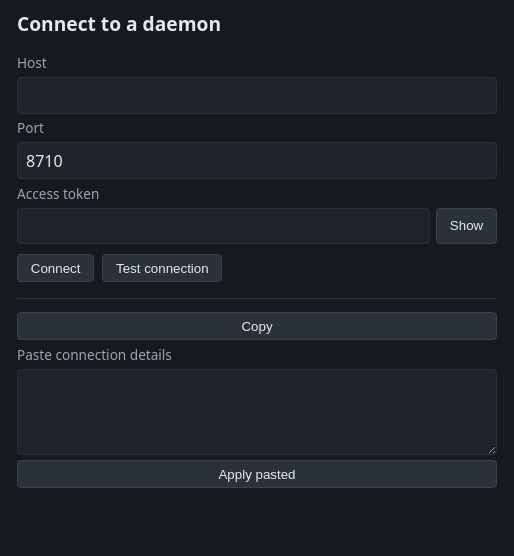
Test: ConnectionSettings › refuses to save an empty host
Click the button "Connect" at (56, 268), box [17, 254, 94, 282]
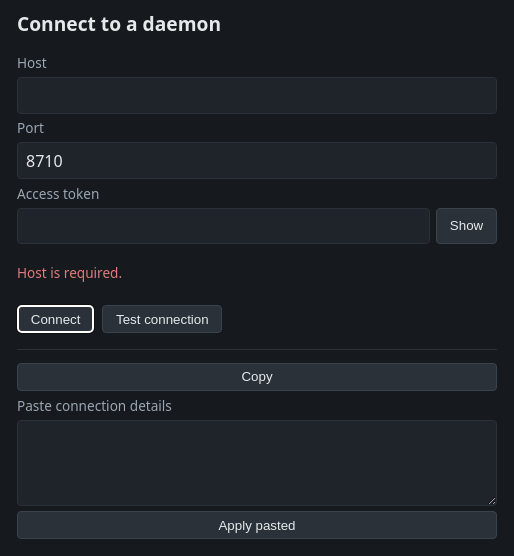
Now the message shows "Host", box [17, 263, 122, 282]
